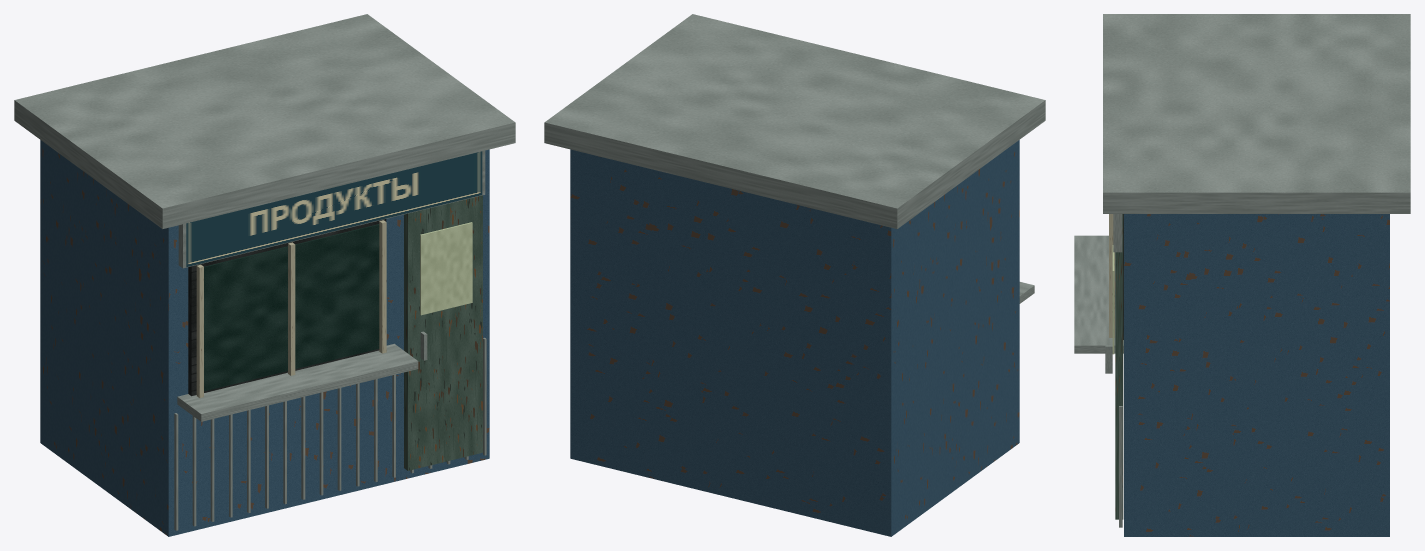
File: CIS_Kiosk.obj
The picture shows the model from 3 angles, left to right: view 1: azimuth 30°, elevation 25°; view 2: azimuth 150°, elevation 25°; view 3: azimuth 270°, elevation 25°; orthographic projection. The views are drawn at different scales.
Parts seen in each view (by area): view 1: CIS_Kiosk; view 2: CIS_Kiosk; view 3: CIS_Kiosk.
Part boxes in pixels (x1=…): CIS_Kiosk: x1=14, y1=14, x2=515, y2=536; CIS_Kiosk: x1=544, y1=14, x2=1045, y2=536; CIS_Kiosk: x1=1074, y1=14, x2=1410, y2=536.
Bounding box in the file's own units: 2.86 × 2.63 × 2.27.
8 materials, 8 textured.
